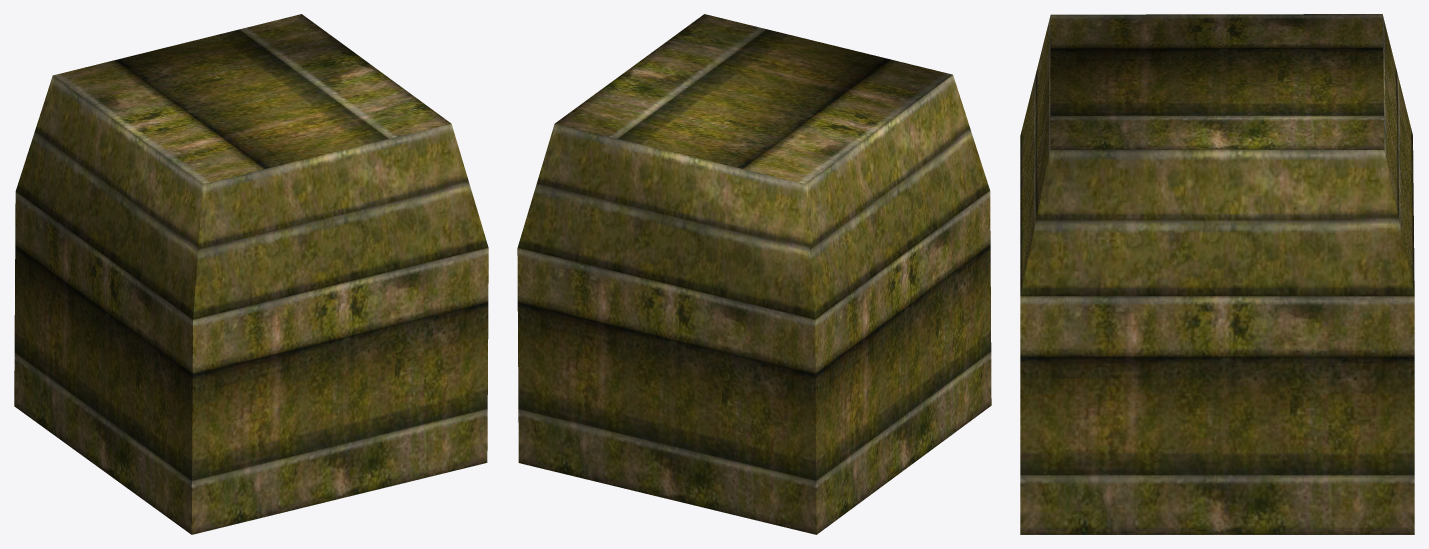
Rendered from OVERHILL_A_01_OBJECT309.fbx.
3 renders of one model, left to right at view 1: azimuth 30°, elevation 25°; view 2: azimuth 150°, elevation 25°; view 3: azimuth 270°, elevation 25°, orthographic. The views are drawn at different scales.
Visible parts, largest first — view 1: OVERHILL_A_01_OBJECT309; view 2: OVERHILL_A_01_OBJECT309; view 3: OVERHILL_A_01_OBJECT309.
Part boxes in pixels (left/top/right/bottom): OVERHILL_A_01_OBJECT309: left=14, top=14, right=488, bottom=534; OVERHILL_A_01_OBJECT309: left=517, top=14, right=991, bottom=534; OVERHILL_A_01_OBJECT309: left=1020, top=14, right=1414, bottom=534.
Bounding box in the file's own units: 11525 × 12361 × 11843.
Materials: 2 (2 with a texture image).
